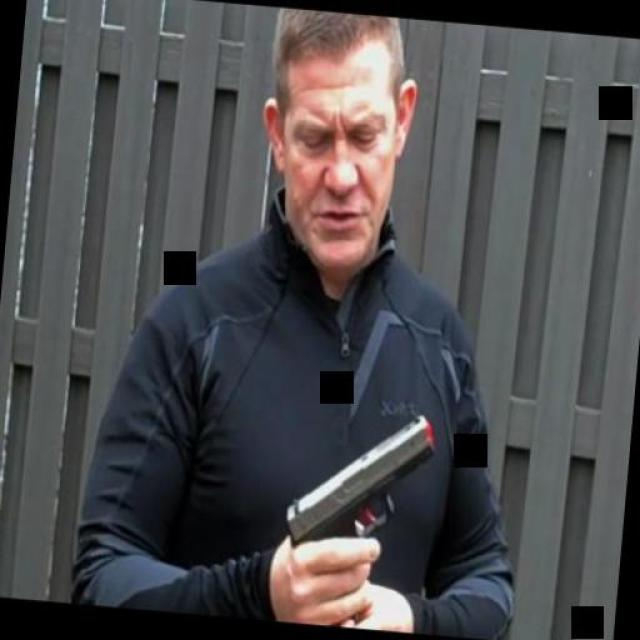gun: (262, 397, 448, 628)
